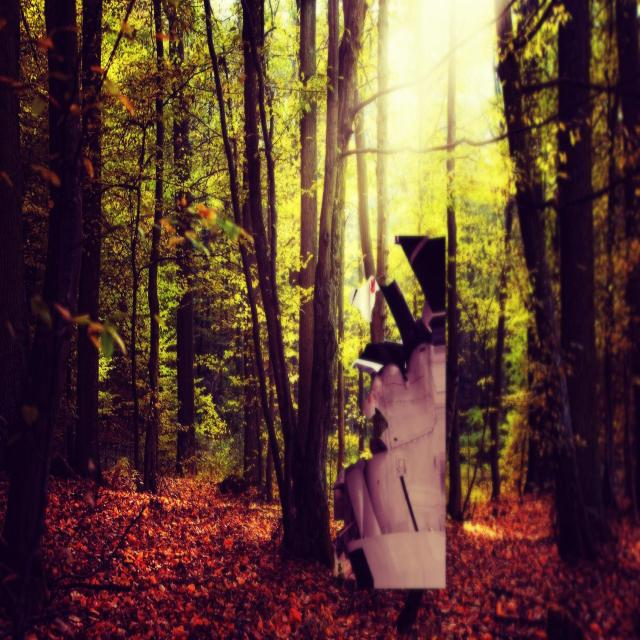airplane: (331, 233, 448, 592)
